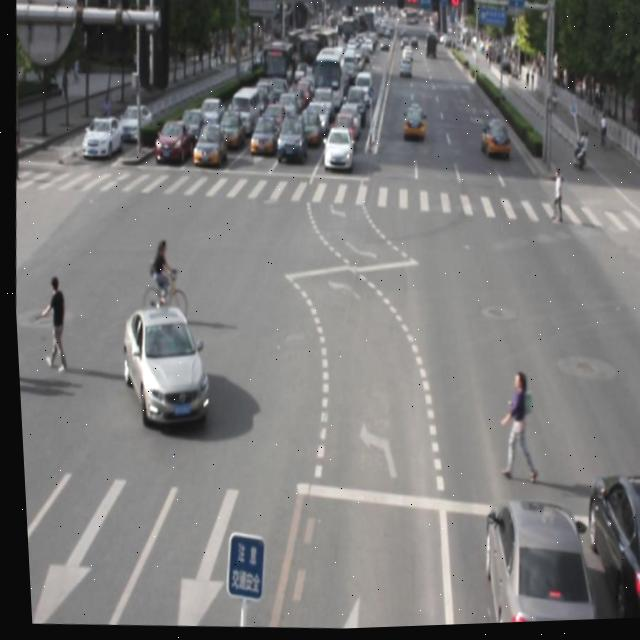car: (473, 500, 593, 627), (114, 305, 210, 433), (572, 477, 640, 624)
